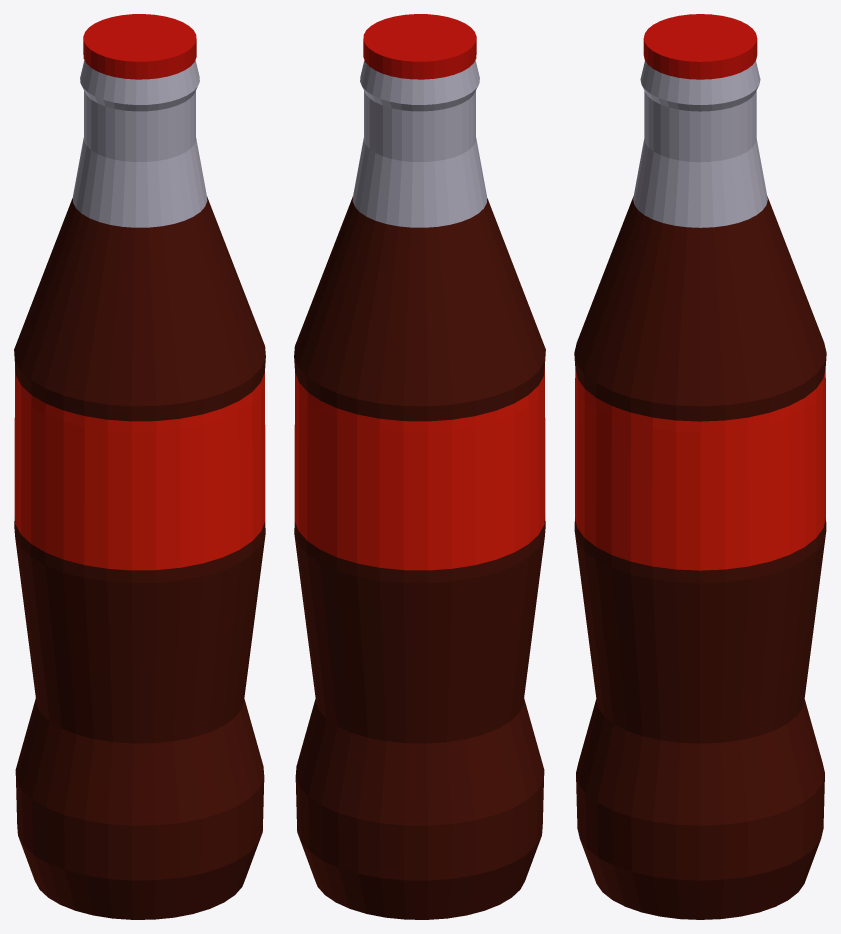
File: Cola 2.fbx
The picture shows the model from 3 angles, left to right: view 1: azimuth 30°, elevation 25°; view 2: azimuth 150°, elevation 25°; view 3: azimuth 270°, elevation 25°; orthographic projection.
Parts seen in each view (by area): view 1: Circle, Cylinder; view 2: Circle, Cylinder; view 3: Circle, Cylinder.
Part boxes in pixels (x1,y1,x2,y2): Circle: (14,60,265,919); Cylinder: (83,14,196,79); Circle: (294,60,545,919); Cylinder: (363,14,476,79); Circle: (574,61,826,919); Cylinder: (643,14,757,79).
Size of the model in its own units: 112 by 412 by 112.
